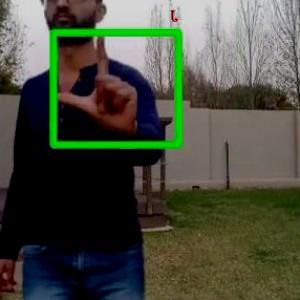land_hand: (54, 31, 142, 136)
